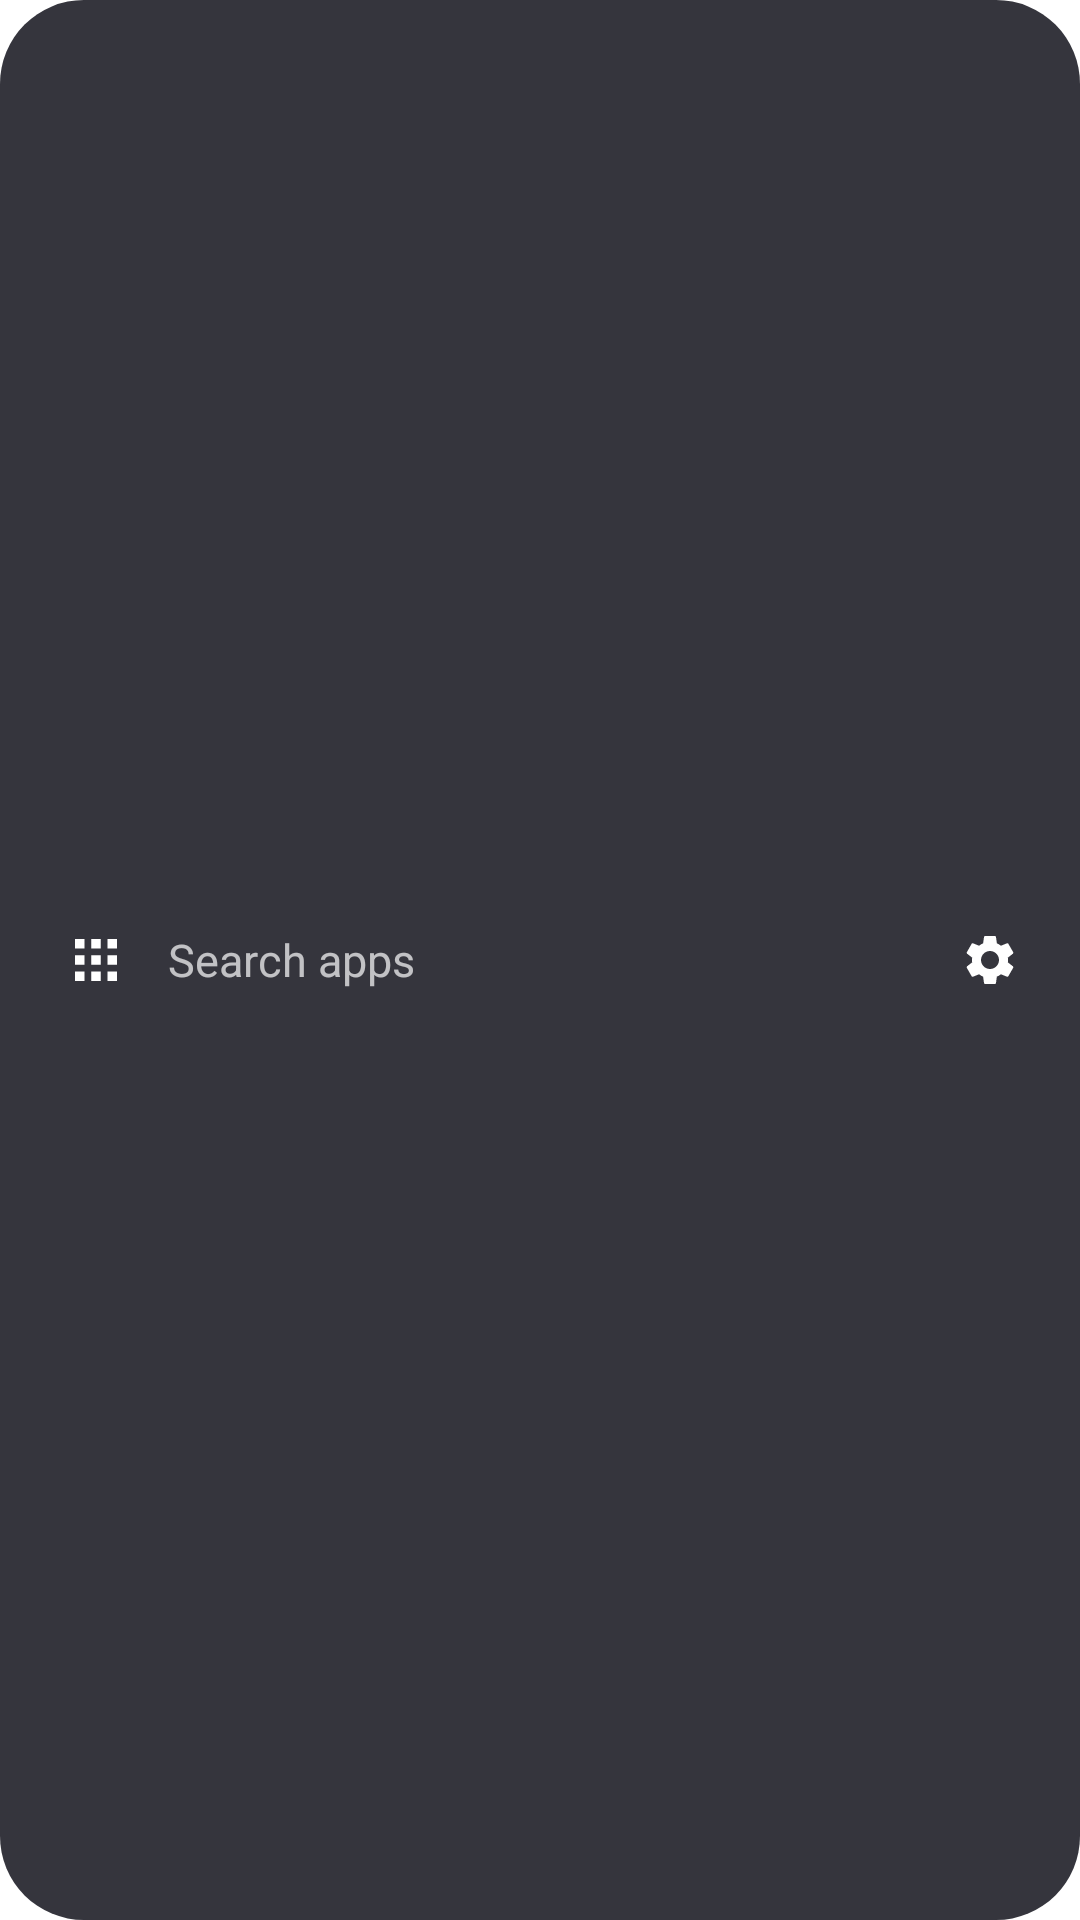

Screen size 1080px×1920px. Icon name, then its box in pixels as (x1, y1, x2, y2):
All: (75, 939, 117, 981)
Pulsar Settings: (966, 936, 1014, 984)
